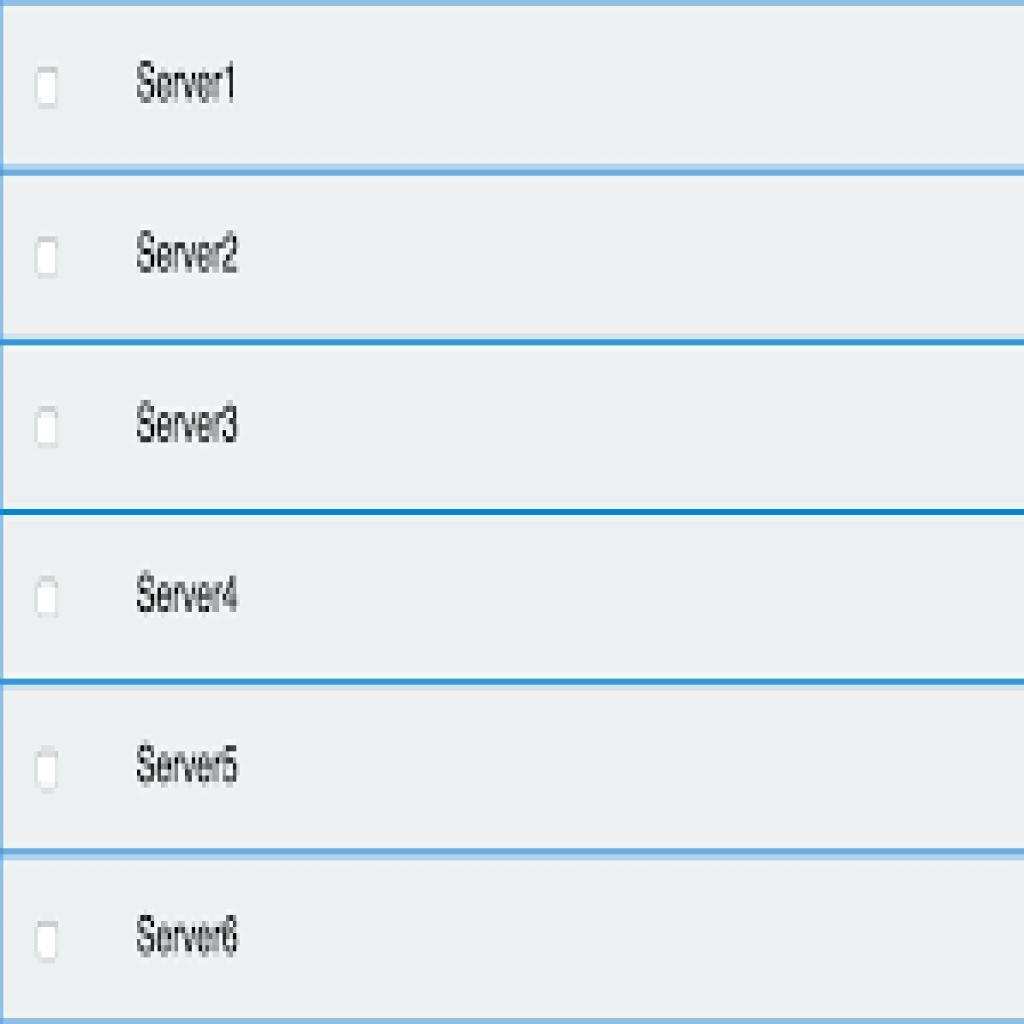checkbox: (34, 67, 62, 109), (35, 752, 62, 794), (35, 408, 61, 448), (34, 922, 60, 961), (35, 580, 60, 619), (34, 238, 57, 280)
label: (134, 225, 245, 281), (131, 564, 241, 618), (134, 397, 243, 449), (135, 911, 243, 962), (134, 58, 239, 109), (134, 742, 244, 787)
